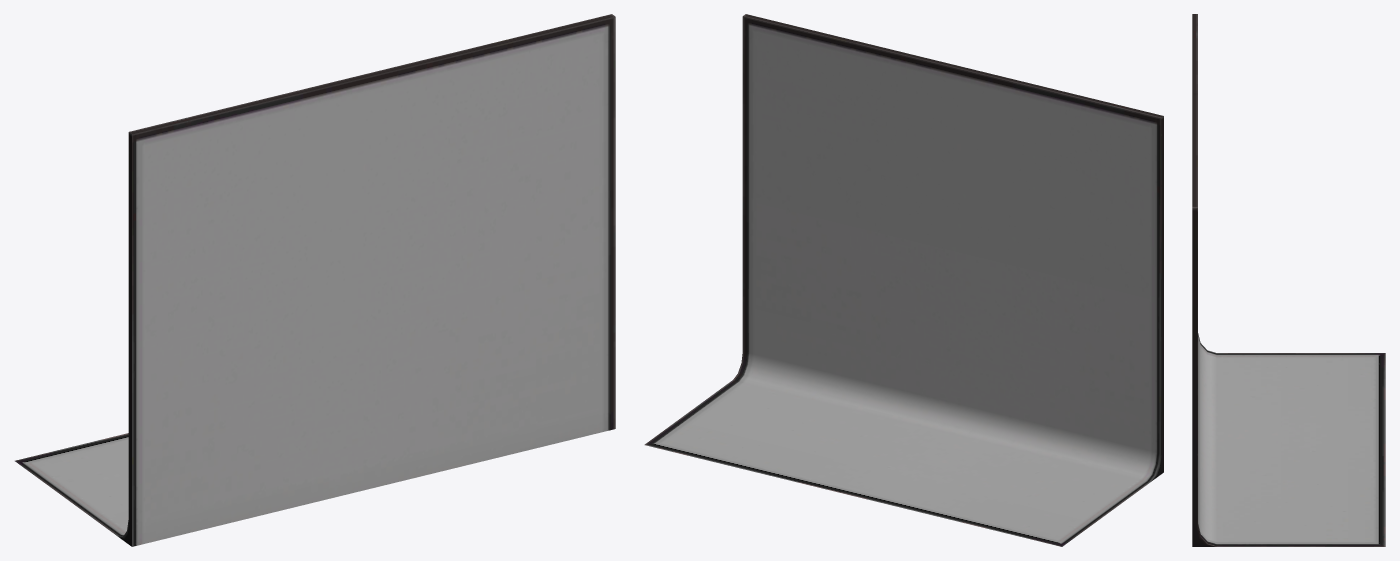
The model's file is furn_syp2017_deco_003.gltf.
The picture shows the model from 3 angles, left to right: view 1: azimuth 30°, elevation 25°; view 2: azimuth 150°, elevation 25°; view 3: azimuth 270°, elevation 25°; orthographic projection. The views are drawn at different scales.
Visible parts, largest first — view 1: syp2017_deco_003; view 2: syp2017_deco_003; view 3: syp2017_deco_003.
Part boxes in pixels (x1=…): syp2017_deco_003: x1=15, y1=14, x2=615, y2=546; syp2017_deco_003: x1=644, y1=14, x2=1163, y2=546; syp2017_deco_003: x1=1192, y1=14, x2=1385, y2=546.
Size of the model in its own units: 1.78 by 1.45 by 0.75.
Materials: 1 (1 with a texture image).
